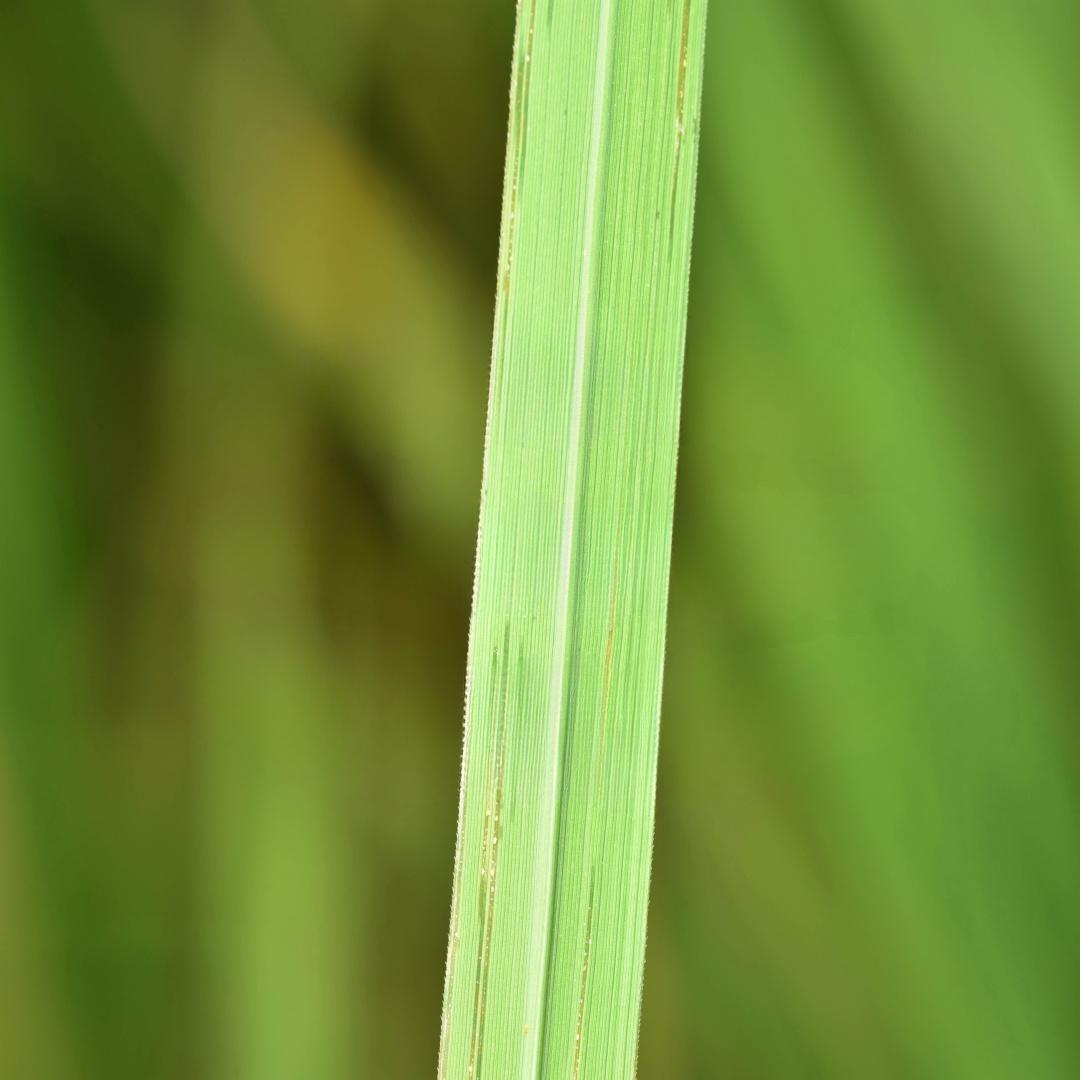BLS: (476, 678, 505, 1079), (499, 36, 524, 415), (469, 723, 494, 1079), (443, 752, 469, 1079), (668, 0, 690, 263), (599, 495, 619, 784), (573, 866, 595, 1078), (519, 0, 535, 204)
LEAF: (438, 0, 705, 1079)
